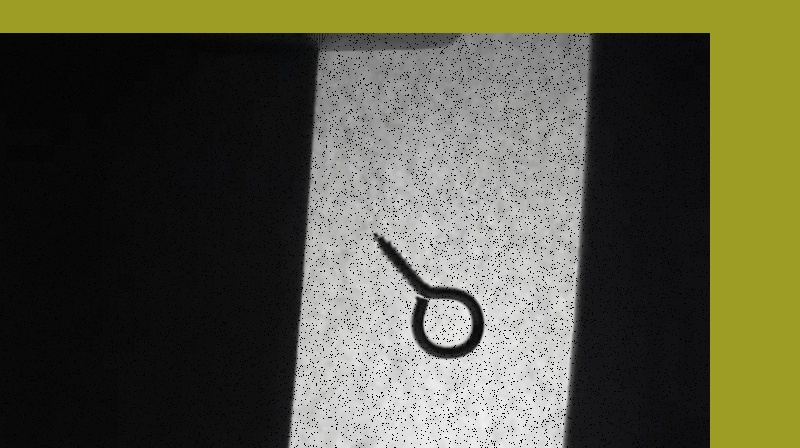O001: (368, 224, 486, 359)
